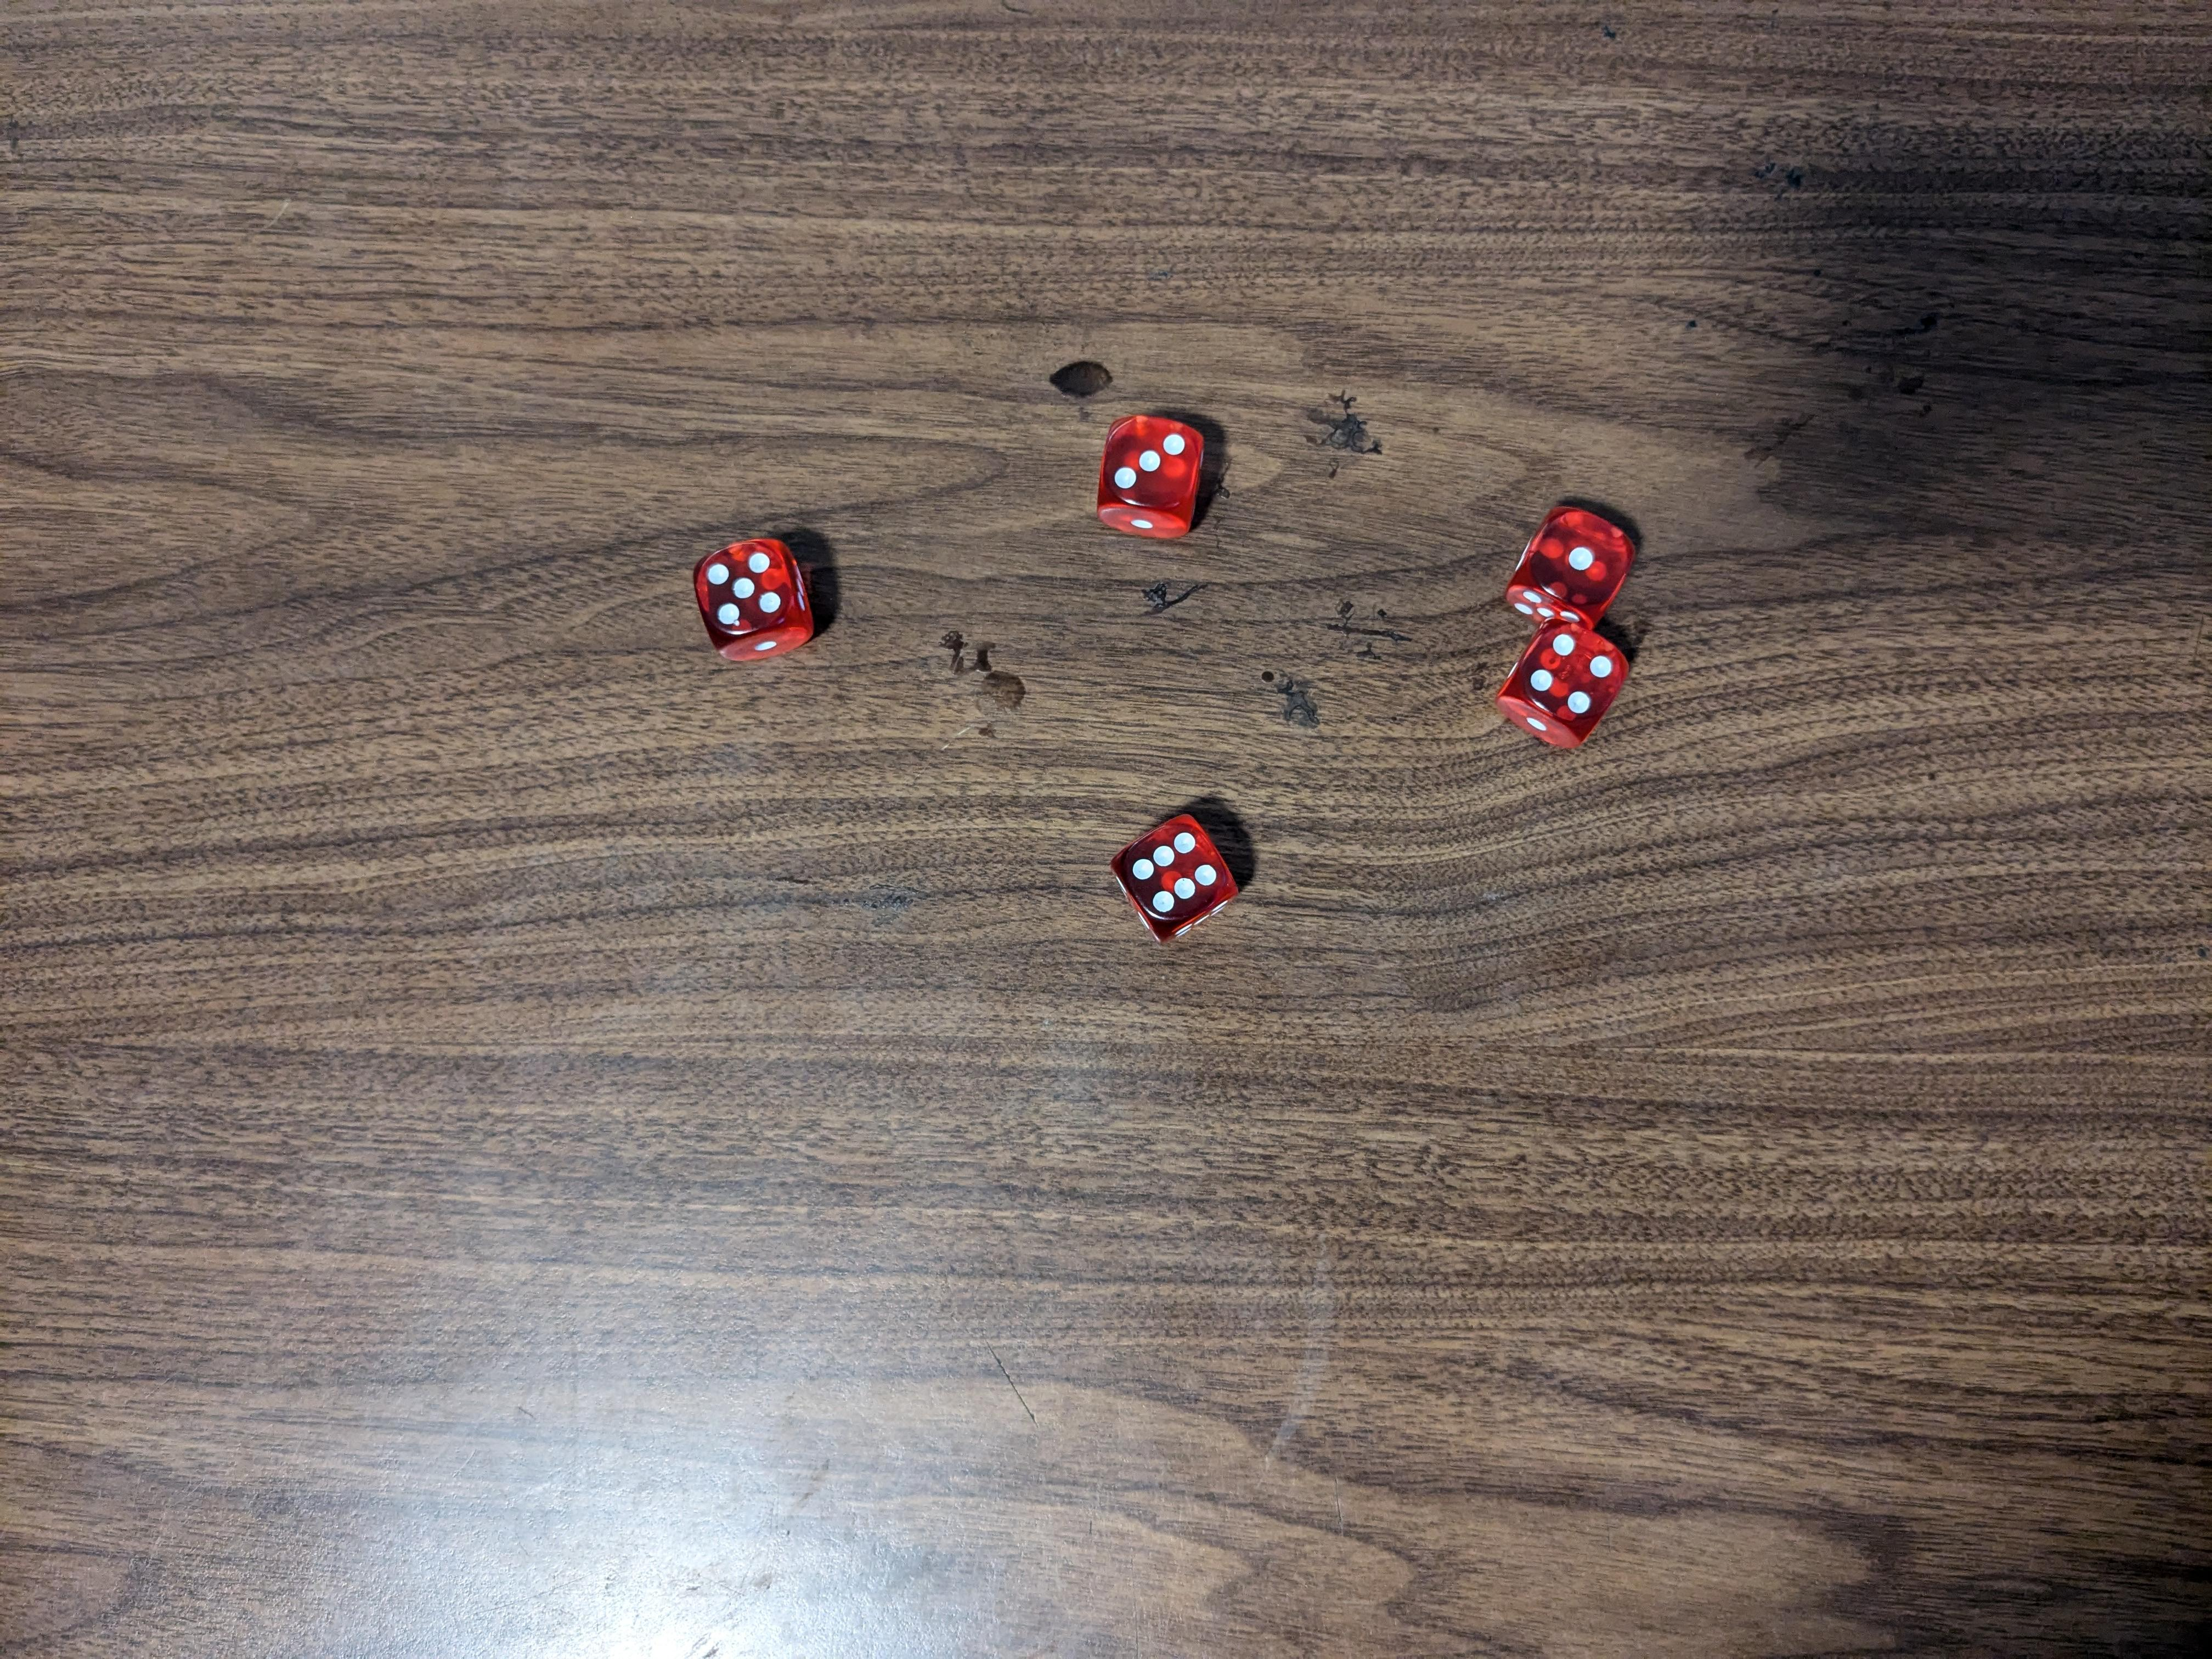five: (693, 532, 819, 660)
four: (1496, 629, 1630, 762)
one: (1510, 500, 1634, 617)
six: (1111, 812, 1247, 953)
three: (1089, 408, 1211, 549)
